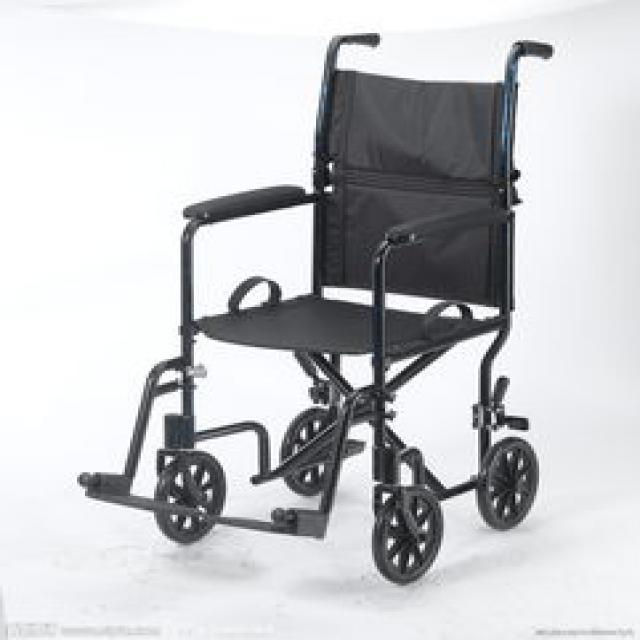wheelchairs: (106, 17, 542, 571)
